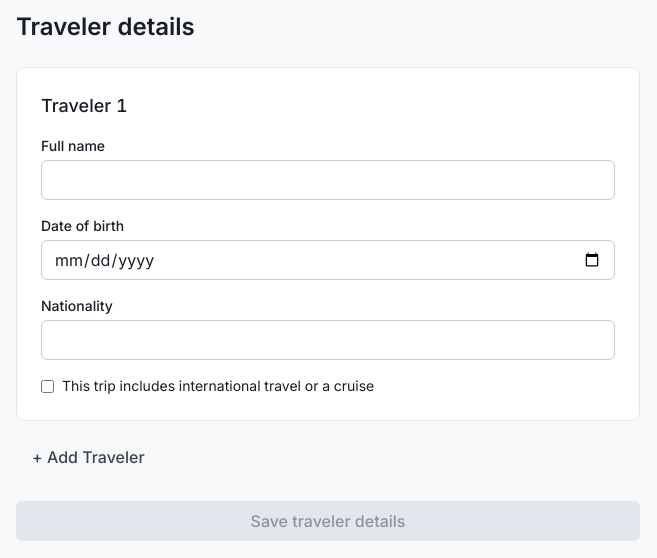
Test case: TravelerDetailsScreen (SCR-14) › enables submit once required fields are filled, and shows a completion checkmark
Type "Jane Traveler" into the field labelled "Full name". click: (328, 180)
box: [41,160,615,200]
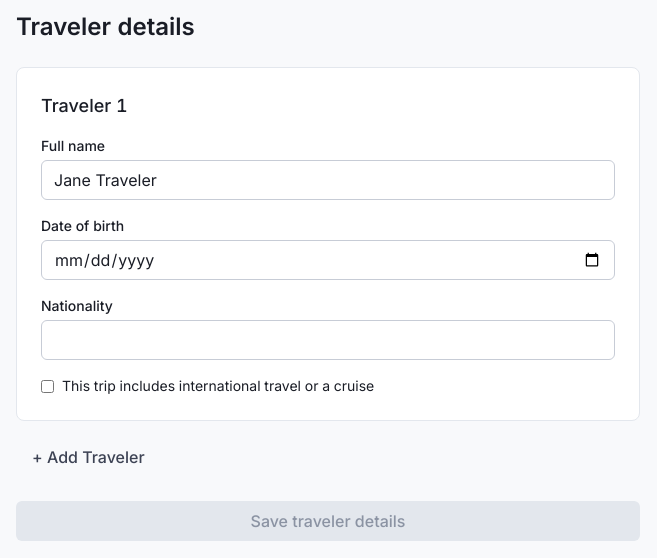
Type "1990-05-01" into the date field labelled "Date of birth". click: (328, 260)
box: [41,240,615,280]
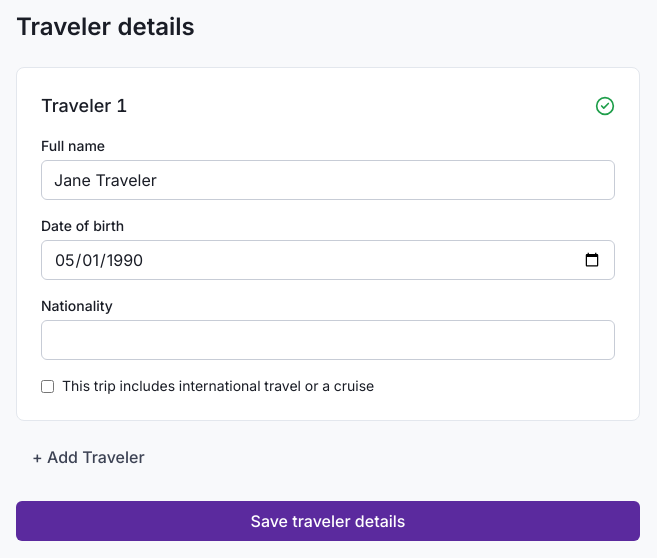
expect the icon named "complete" is shown: met, box [595,96,615,116]
expect the button "Save traveler details" is enabled: met, box [16,501,640,541]
